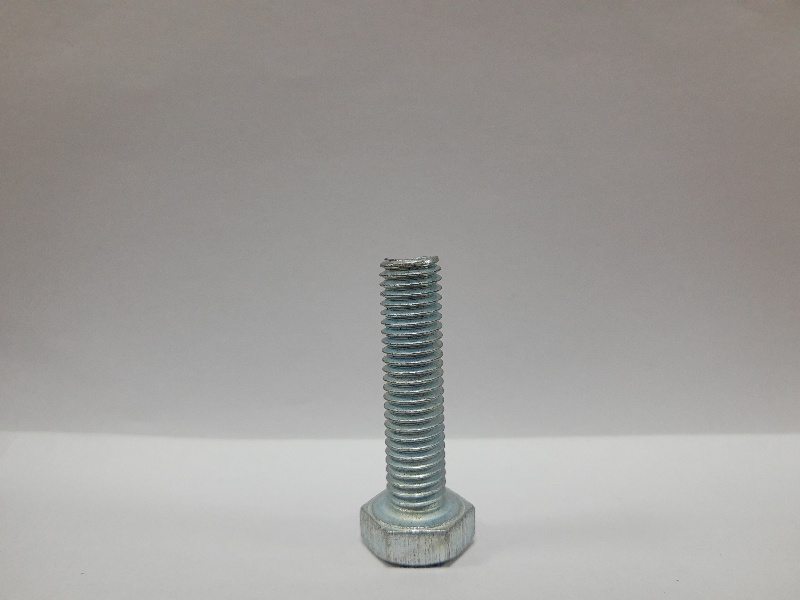pf: (356, 247, 483, 573)
